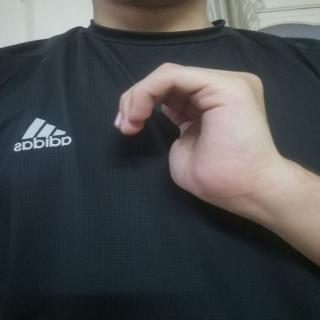HAA: (107, 59, 299, 211)
